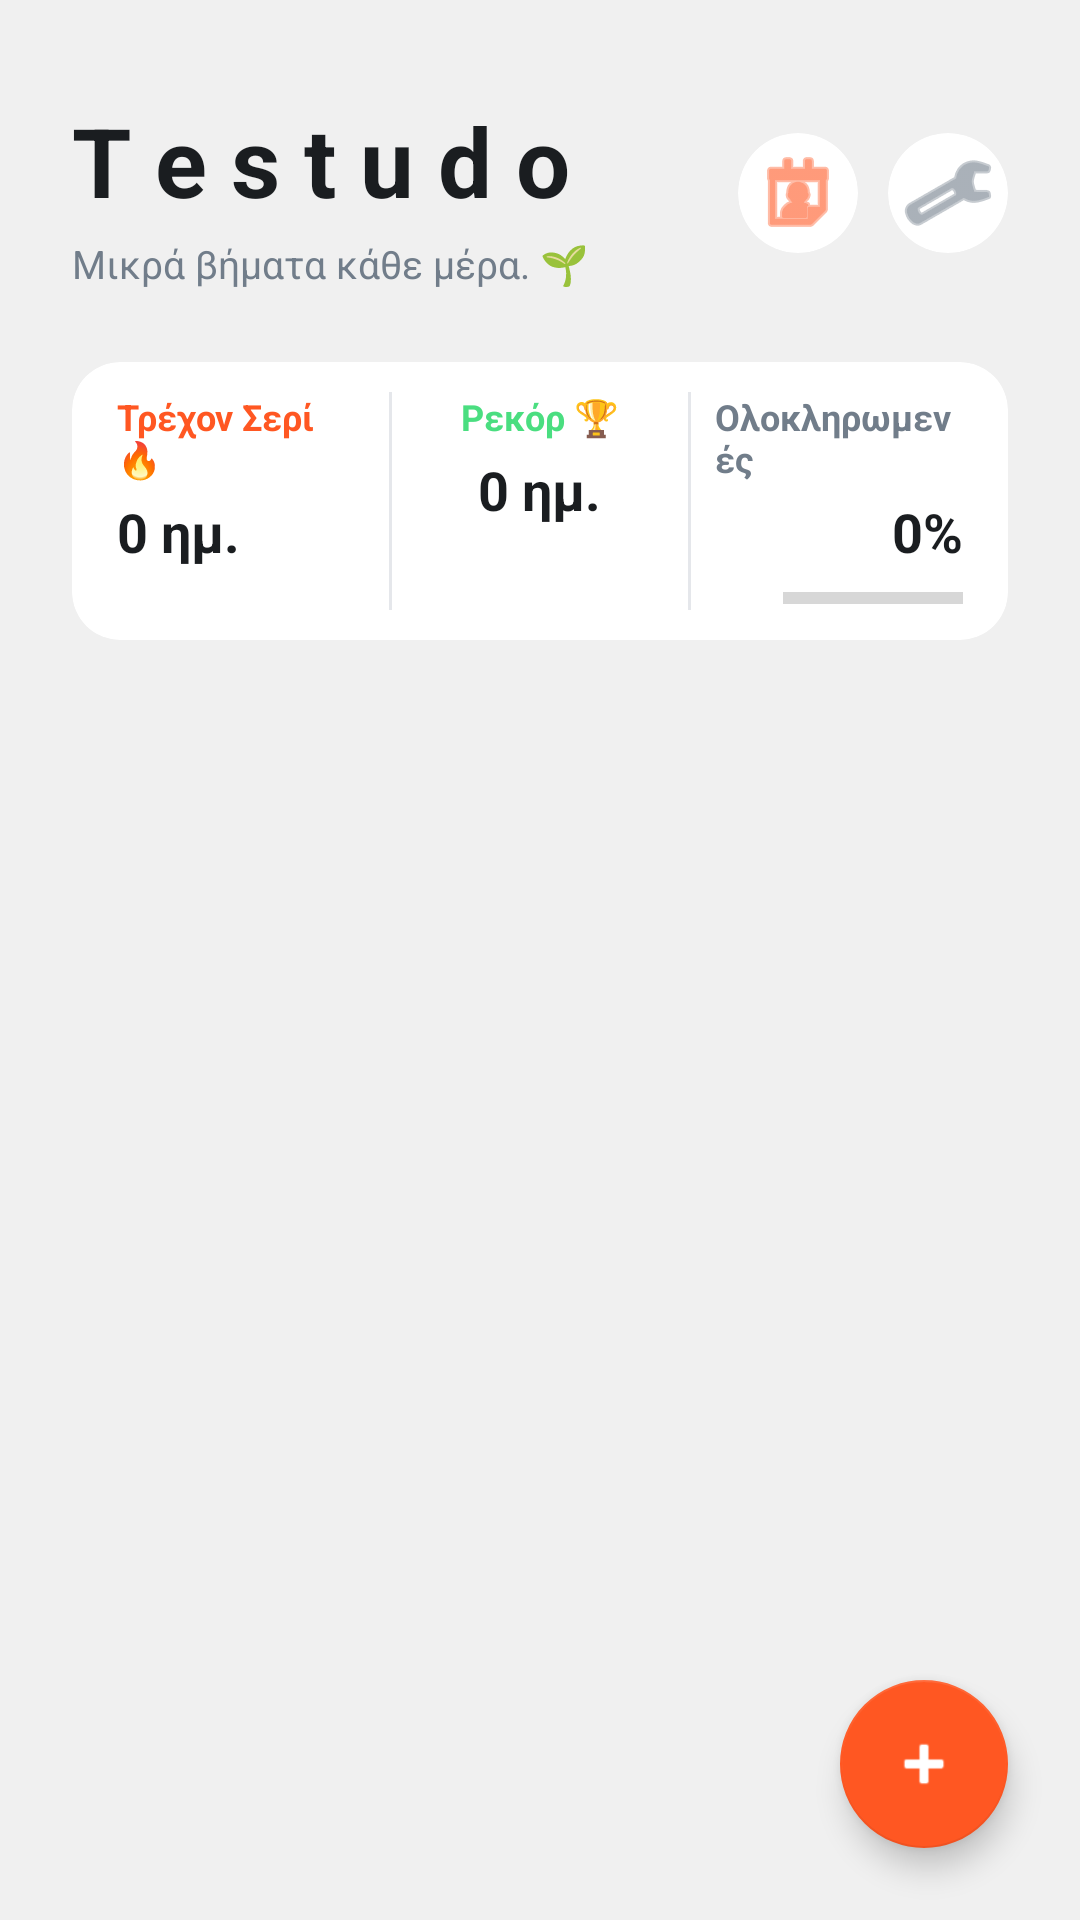

Icon click points for this 1080px x 1920px phone screenshot, format [x,y]:
add: [924,1764]
Ημερολόγιο: [798,192]
Ρυθμίσεις: [948,193]
